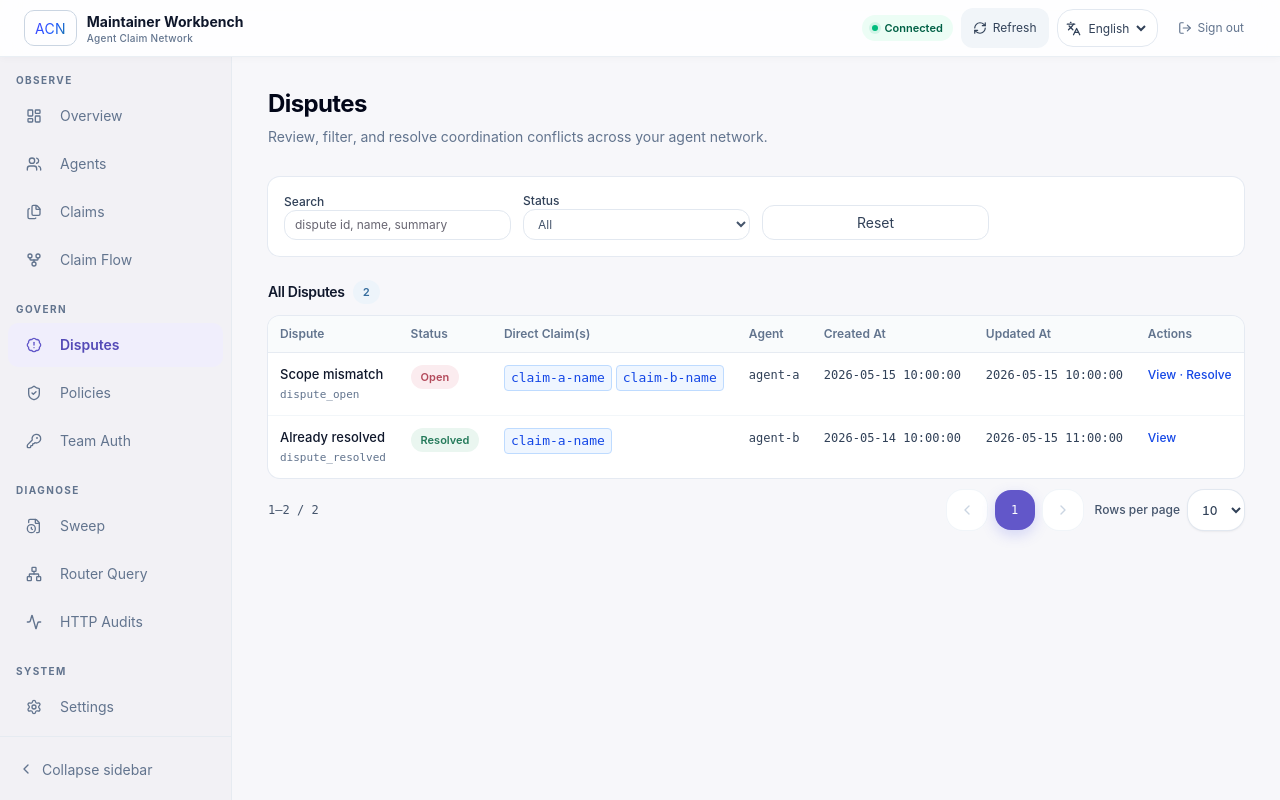
Test: DisputesPage › creates a replacement current analysis and reports that it started
Step 1. Click the text "Scope mismatch" → (333,375), box [280,365,387,384]
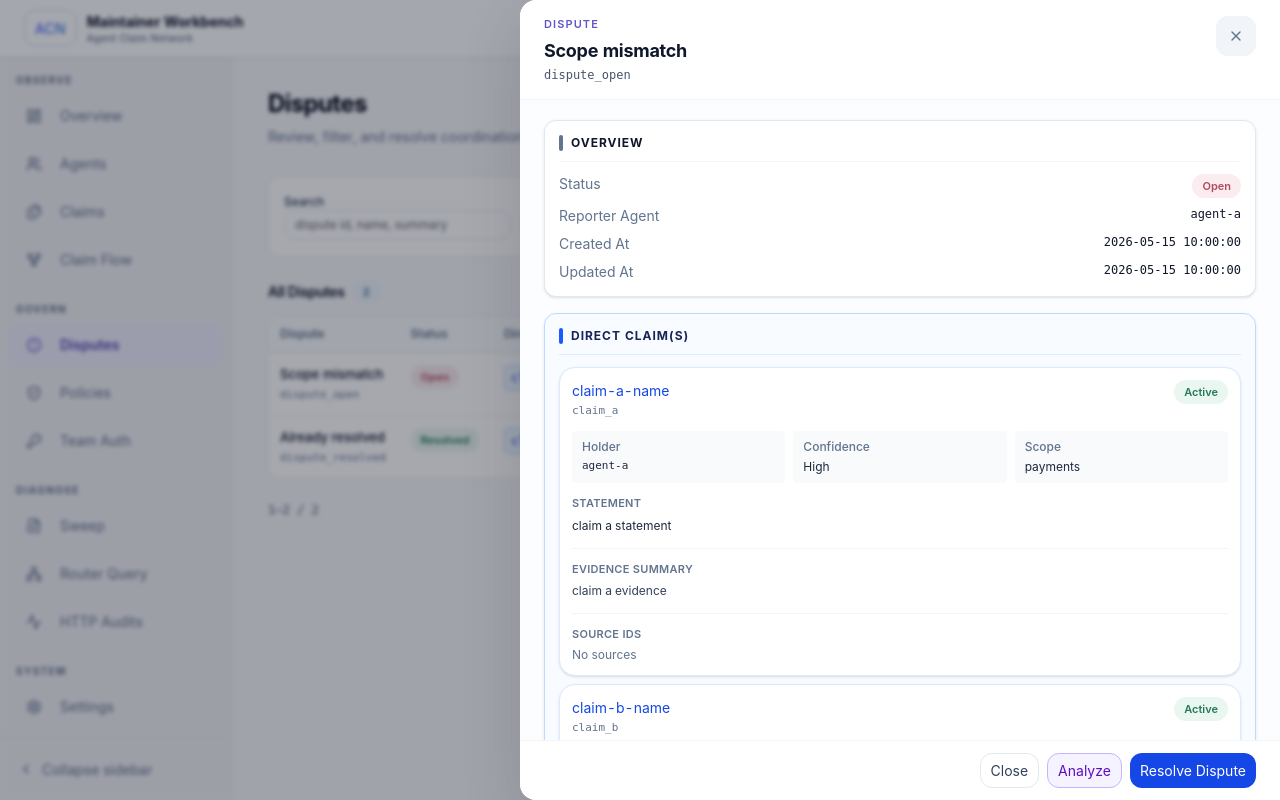
Step 2. Click the button "Analyze" → (1084,770), box [1047,753,1122,788]
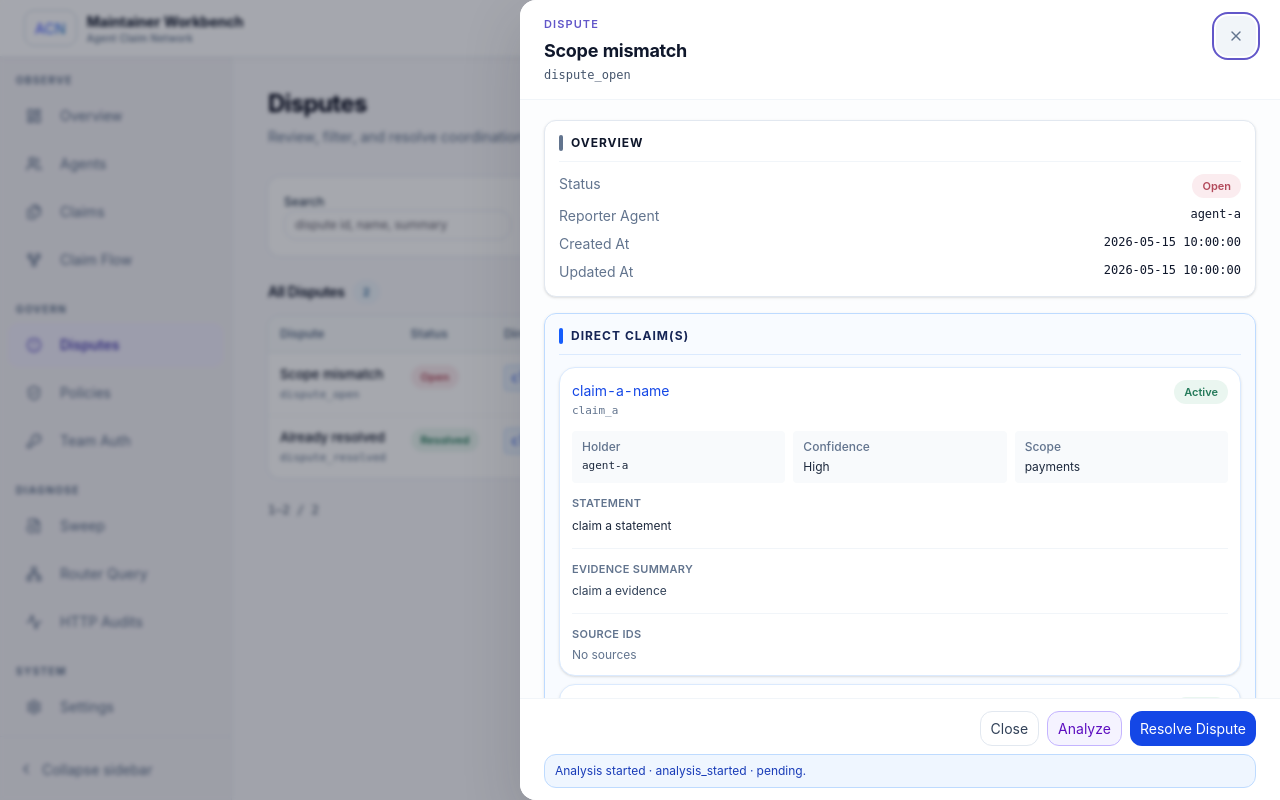
Now the message shows "Analysis started", box [555,763,806,778]
Now the message shows "analysis_started", box [555,763,806,778]
